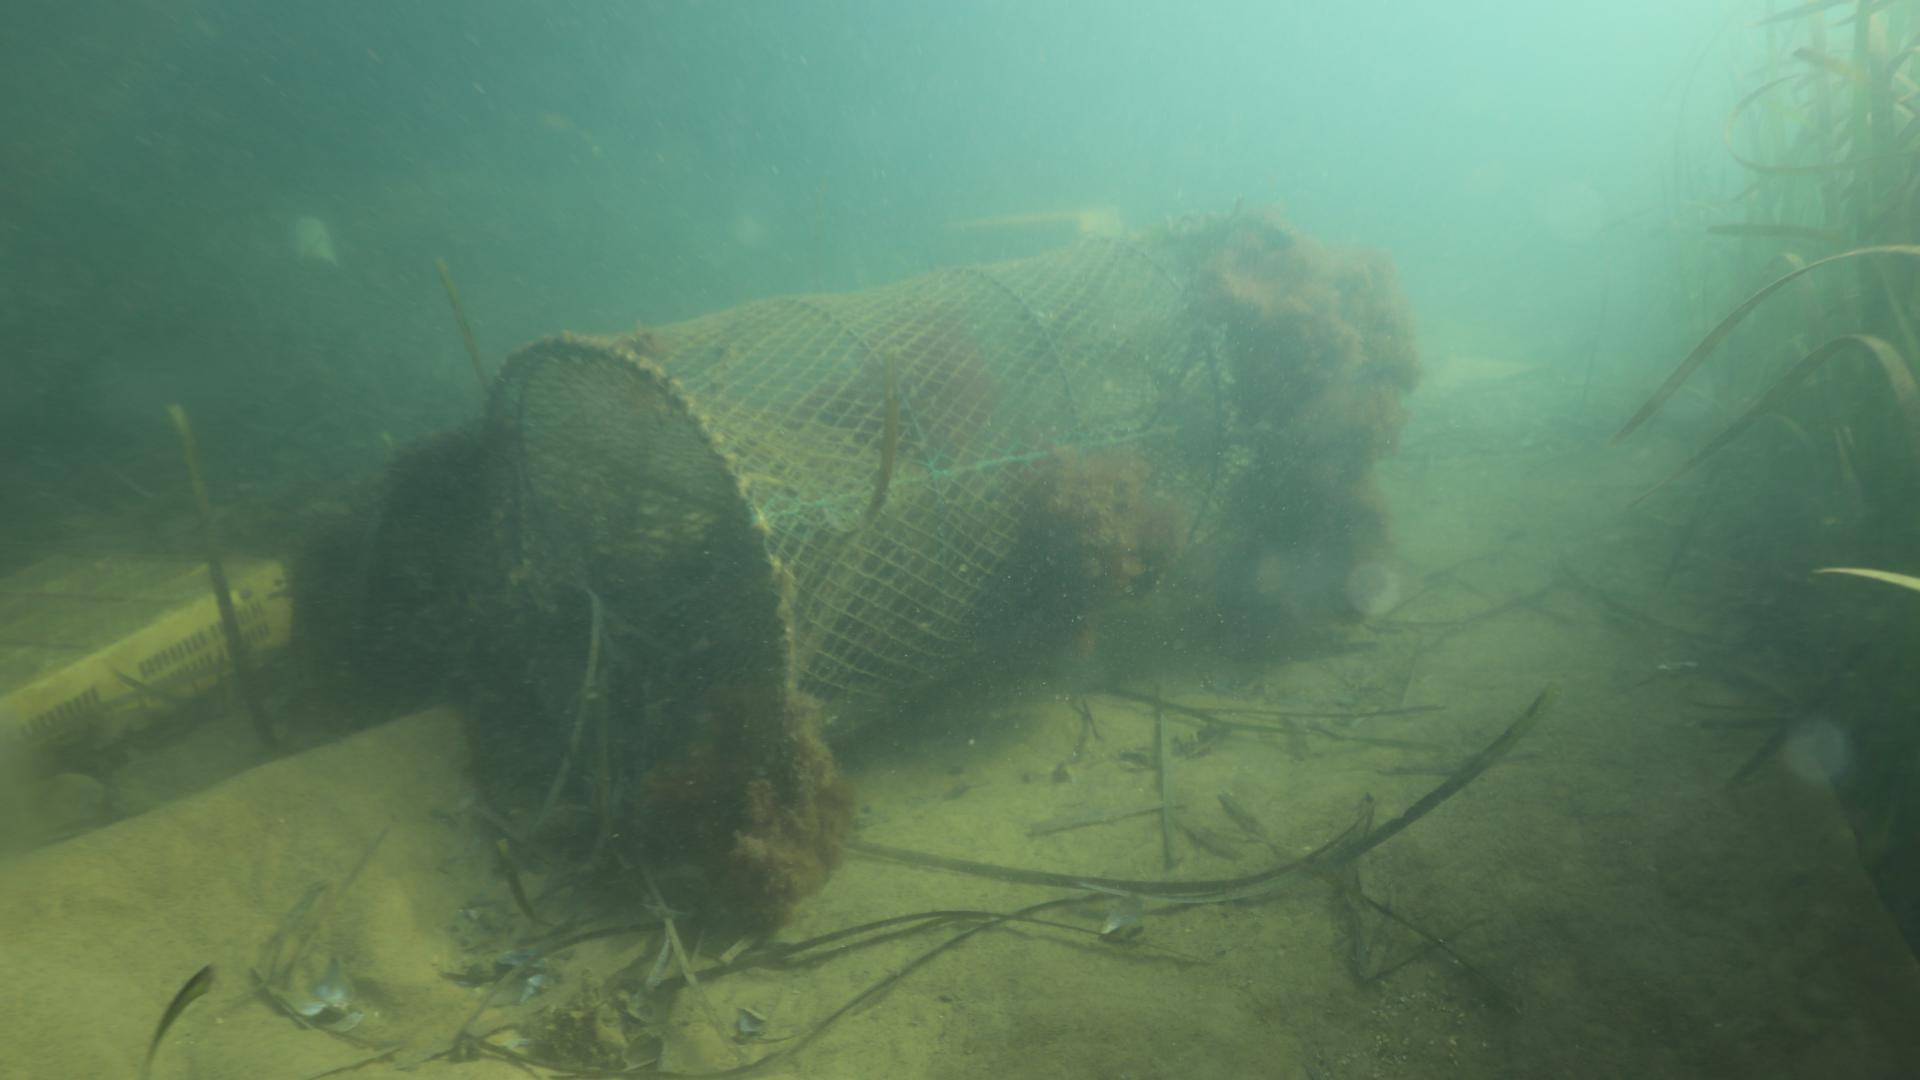spring fish trap: (469, 218, 1253, 825)
